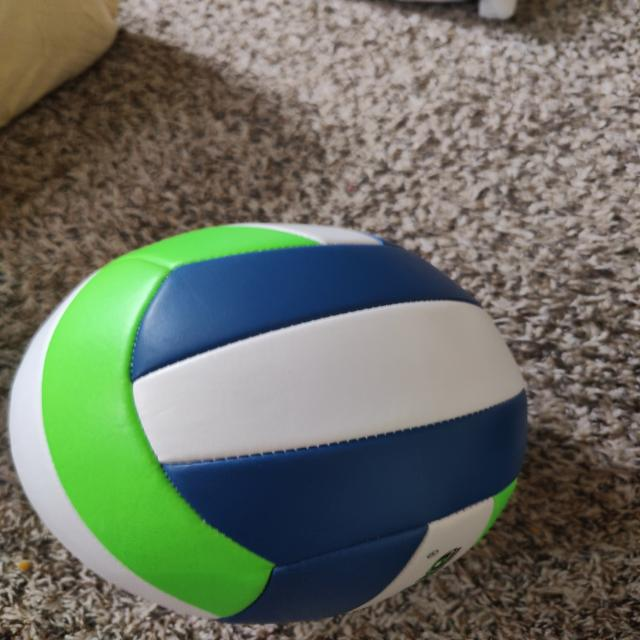ball: (0, 228, 525, 621)
